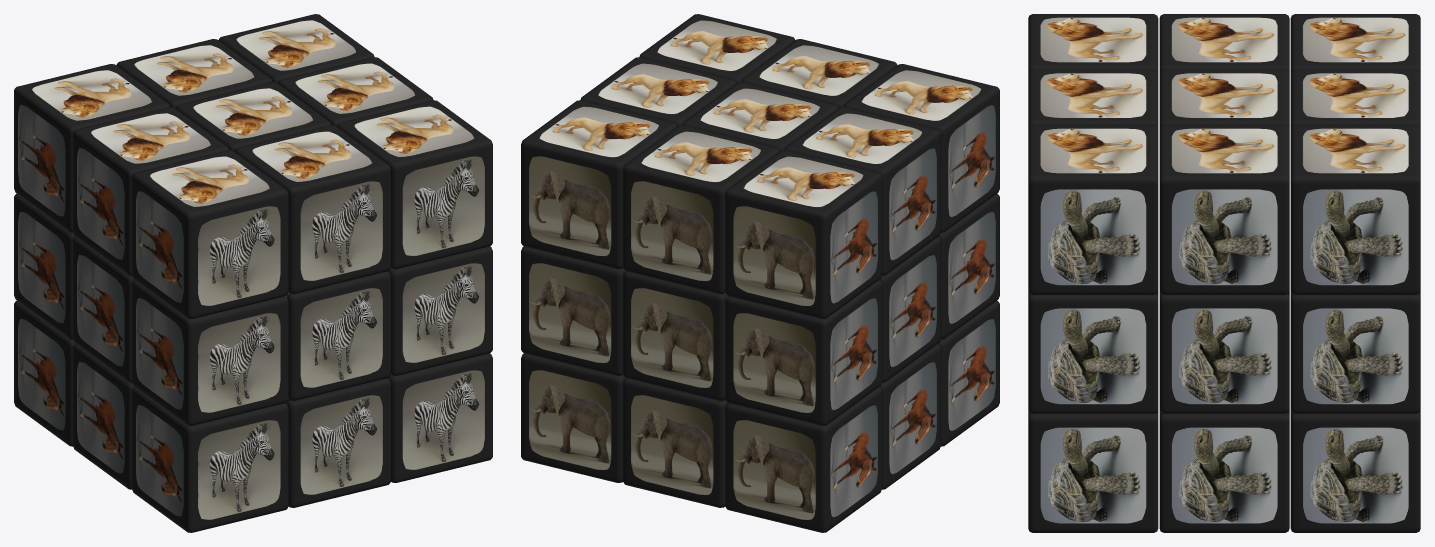
Rendered from puzzle_cube.obj.
3 views of the same model, side by side, from view 1: azimuth 30°, elevation 25°; view 2: azimuth 150°, elevation 25°; view 3: azimuth 270°, elevation 25° (orthographic). The views are drawn at different scales.
Parts seen in each view (by area): view 1: puzzle_cube; view 2: puzzle_cube; view 3: puzzle_cube.
Boxes of the visible parts, x1,y1,x2,y2 form: puzzle_cube: (14,14,492,532); puzzle_cube: (521,14,999,532); puzzle_cube: (1028,14,1420,532).
Size of the model in its own units: 9.07 by 9.07 by 9.06.
